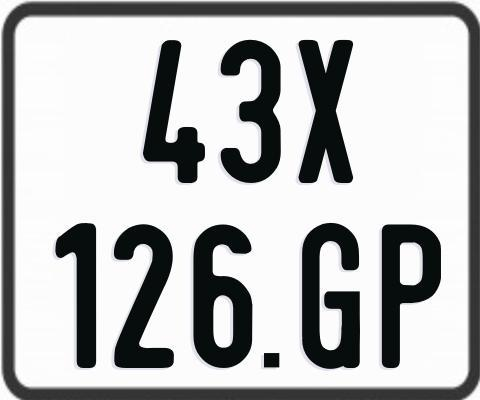1: (54, 222, 97, 370)
2: (114, 221, 177, 365)
3: (218, 40, 284, 183)
4: (141, 37, 209, 181)
6: (190, 224, 250, 370)
G: (301, 222, 364, 371)
P: (379, 224, 442, 373)
X: (298, 38, 356, 186)
